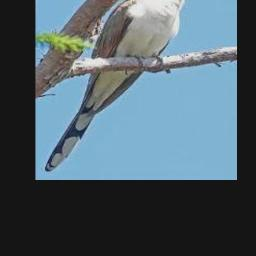Cuckoo: (45, 0, 201, 171)
